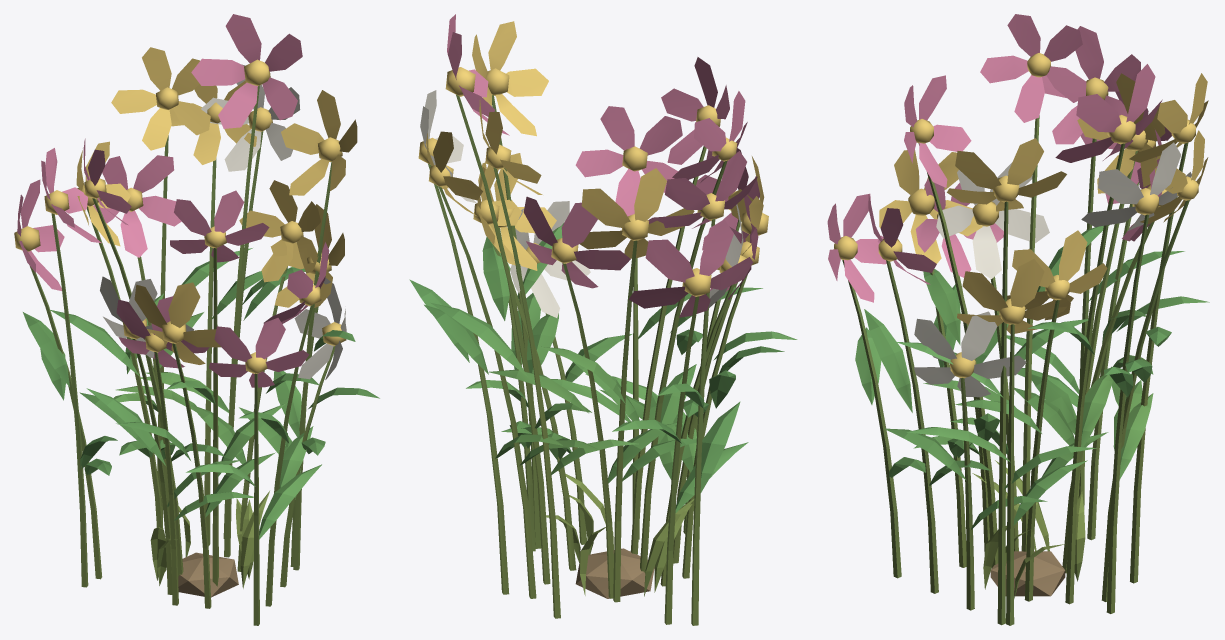
The model's file is wildflowers.6db3be02.glb.
The picture shows the model from 3 angles, left to right: view 1: azimuth 30°, elevation 25°; view 2: azimuth 150°, elevation 25°; view 3: azimuth 270°, elevation 25°; orthographic projection. The views are drawn at different scales.
Parts seen in each view (by area): view 1: wildflowers; view 2: wildflowers; view 3: wildflowers.
Boxes of the visible parts, x1,y1,x2,y2 form: wildflowers: (14, 14, 379, 625); wildflowers: (409, 14, 797, 625); wildflowers: (827, 14, 1209, 625).
Bounding box in the file's own units: 0.6084 × 1.01 × 0.6102.
